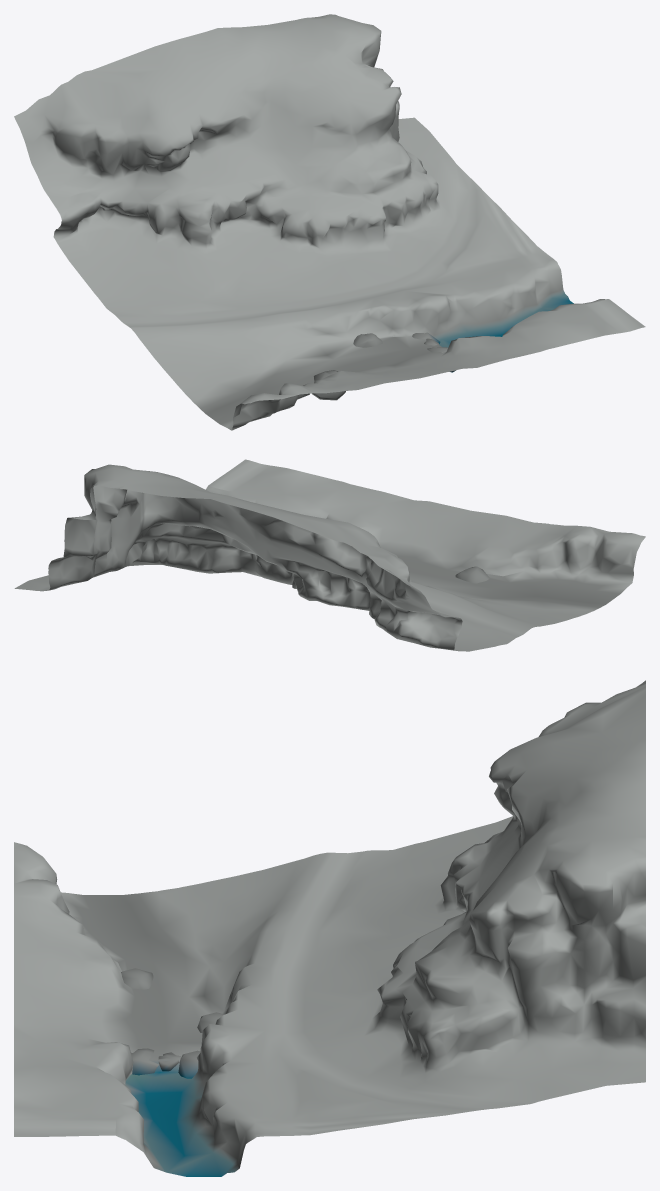
3 views of the same model, one above another, from view 1: azimuth 30°, elevation 25°; view 2: azimuth 150°, elevation 25°; view 3: azimuth 270°, elevation 25° (orthographic). The views are drawn at different scales.
Visible parts, largest first — view 1: G:\FFXIV-MapTools\exports\s1f3\bg\ffxiv\sea_s1\fld\s1f3\bgpl (×24); view 2: G:\FFXIV-MapTools\exports\s1f3\bg\ffxiv\sea_s1\fld\s1f3\bgpl (×18); view 3: G:\FFXIV-MapTools\exports\s1f3\bg\ffxiv\sea_s1\fld\s1f3\bgpl (×24).
Boxes of the visible parts, bbox=[...] form: G:\FFXIV-MapTools\exports\s1f3\bg\ffxiv\sea_s1\fld\s1f3\bgpl (×24): bbox=[14, 14, 645, 430]; G:\FFXIV-MapTools\exports\s1f3\bg\ffxiv\sea_s1\fld\s1f3\bgpl (×18): bbox=[29, 459, 645, 651]; G:\FFXIV-MapTools\exports\s1f3\bg\ffxiv\sea_s1\fld\s1f3\bgpl (×24): bbox=[14, 680, 645, 1176].
Bounding box in the file's own units: 128 × 67.47 × 128.
